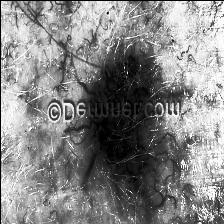Unclassified: (84, 57, 160, 208)
